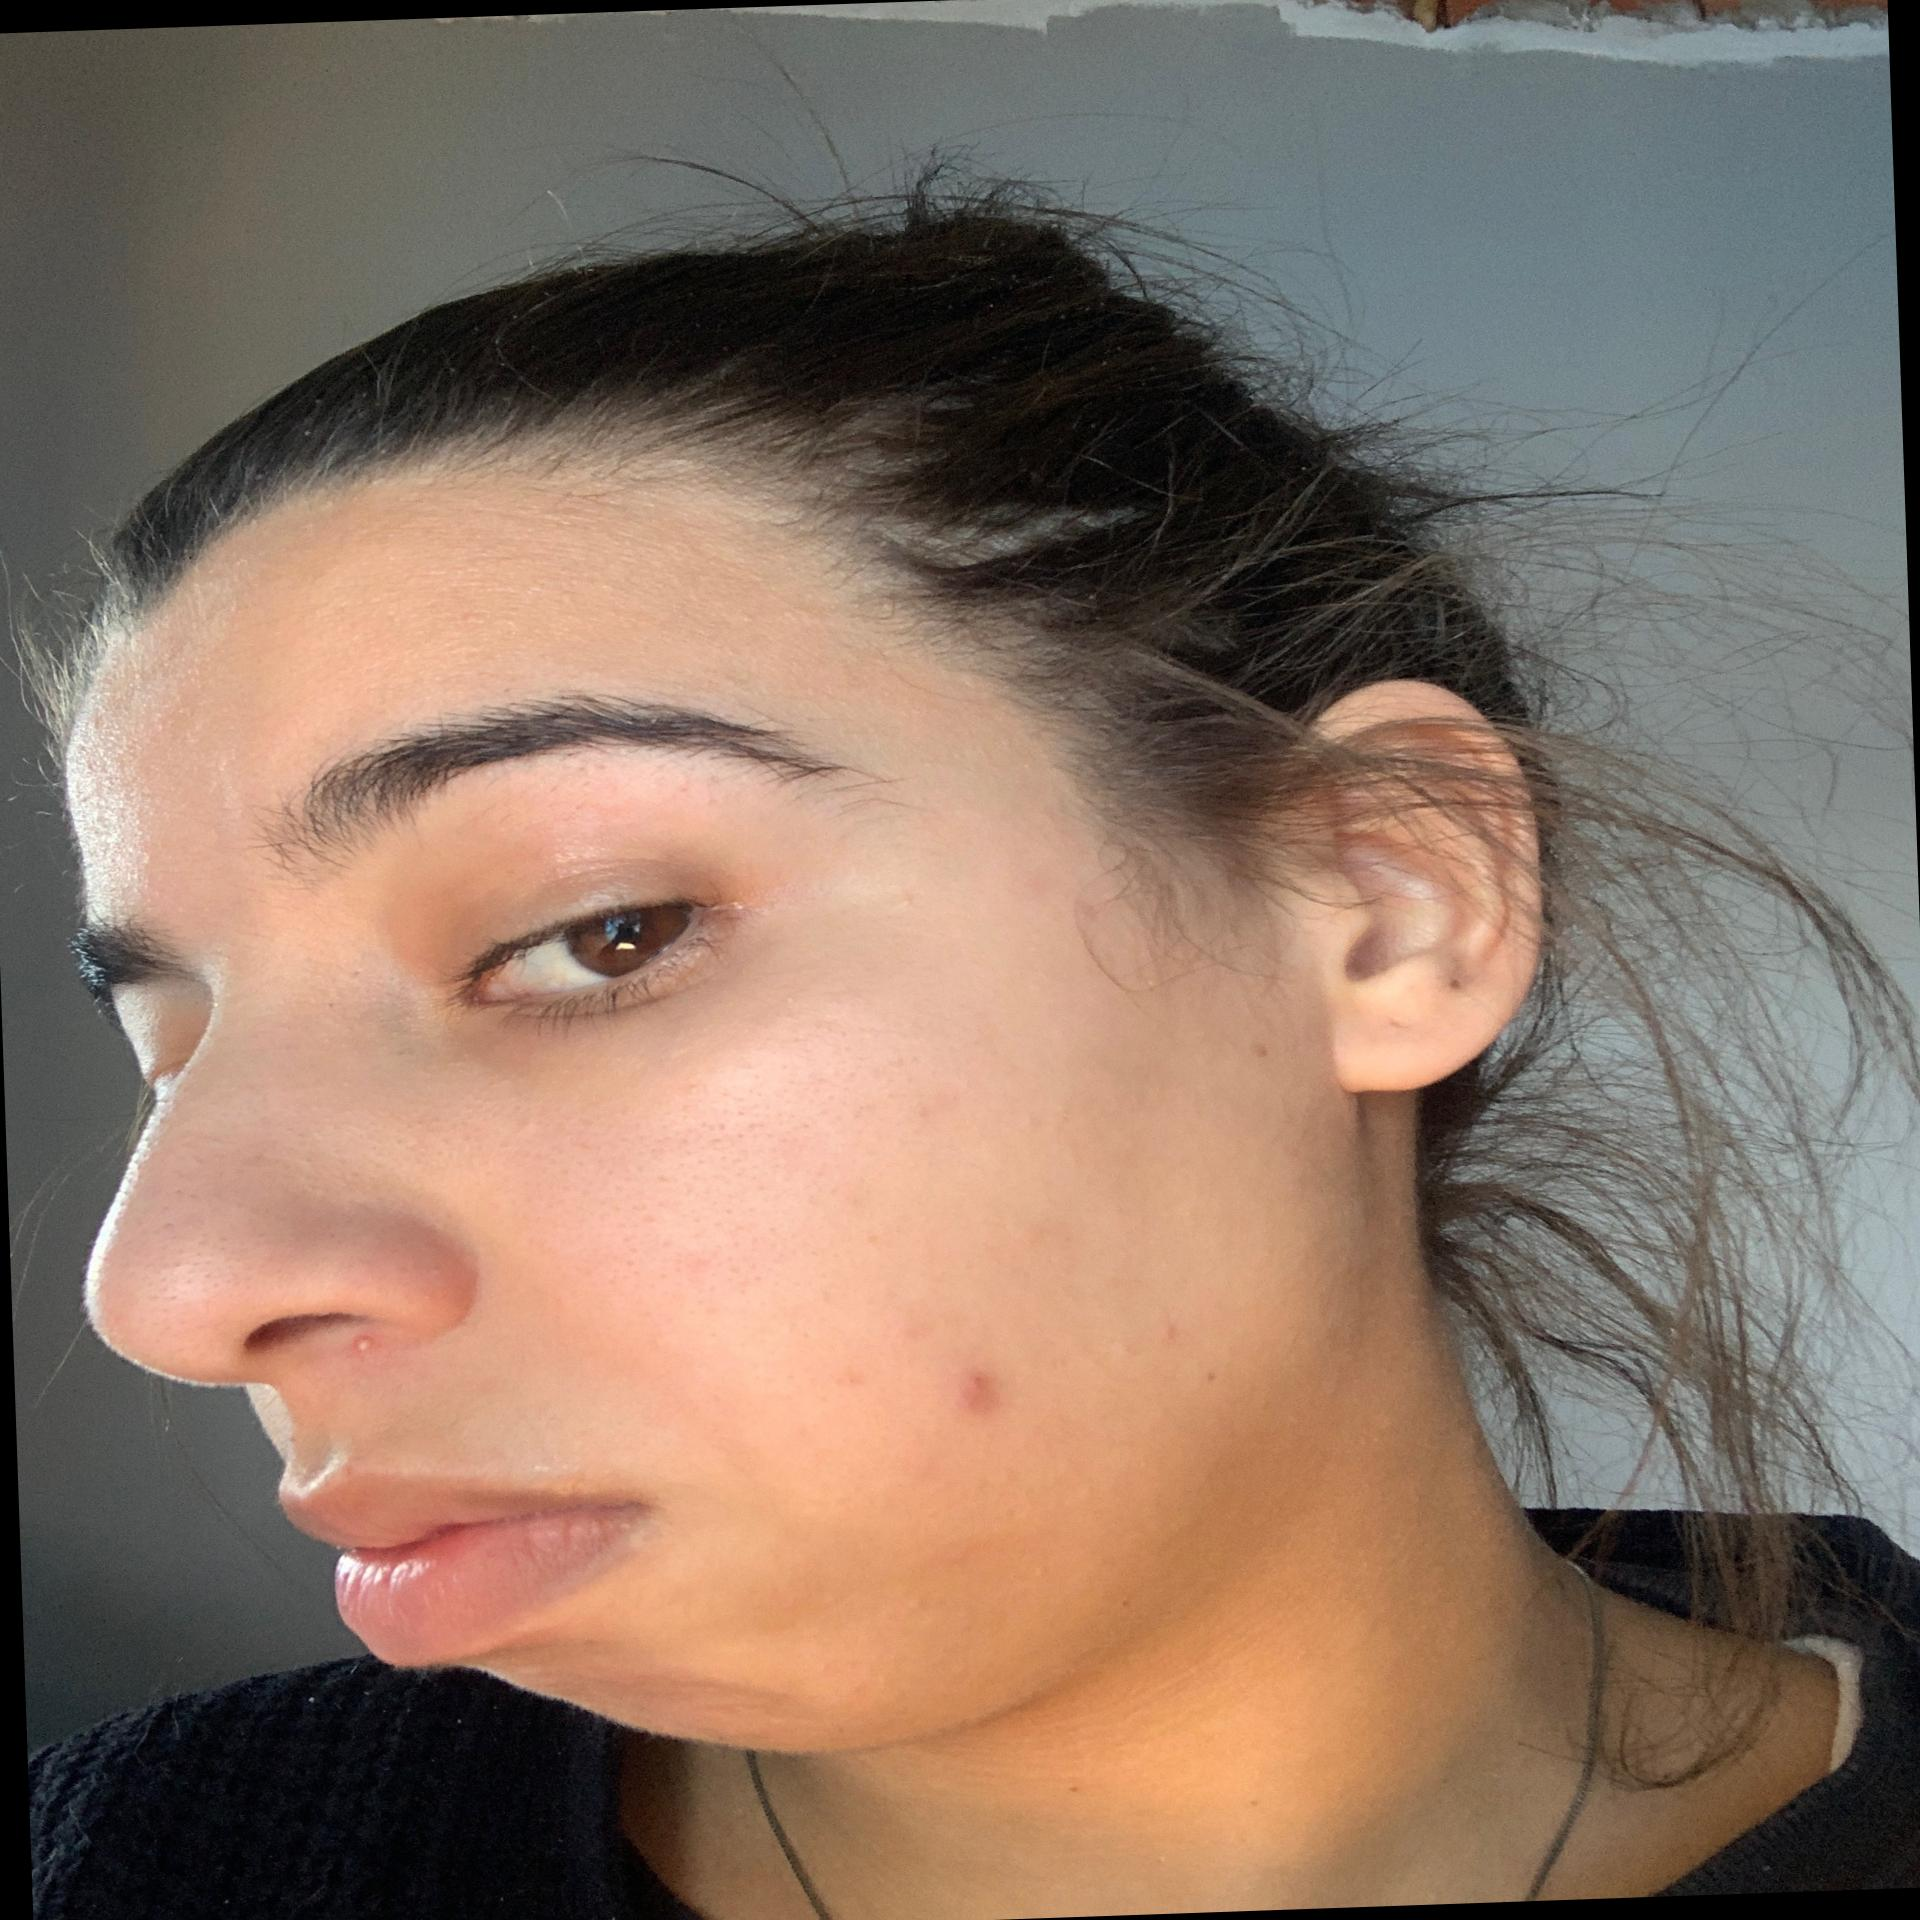Acne: (1023, 860, 1111, 934), (942, 1352, 1013, 1424), (339, 1324, 392, 1361), (895, 1312, 960, 1342), (833, 1361, 888, 1396), (1146, 1308, 1185, 1354)
Blackhead: (520, 1078, 779, 1262), (689, 1025, 927, 1162), (139, 1169, 243, 1305)
